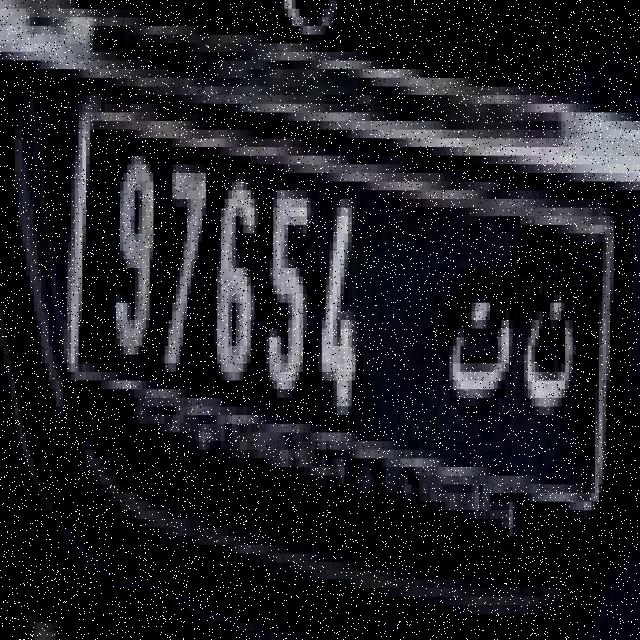licenseplate: (63, 93, 615, 520)
